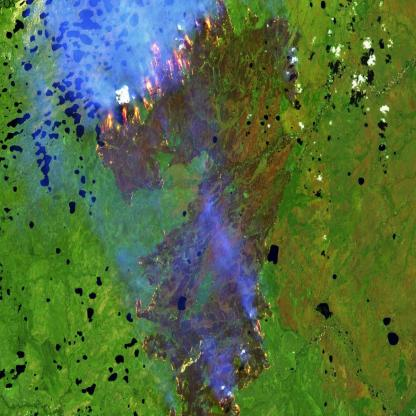fire: (88, 0, 274, 166), (124, 272, 274, 416)
